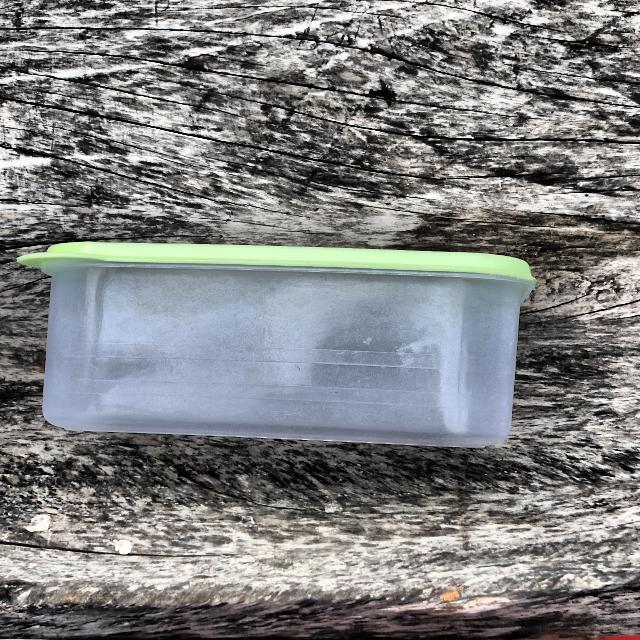plastic container: (10, 224, 546, 454)
